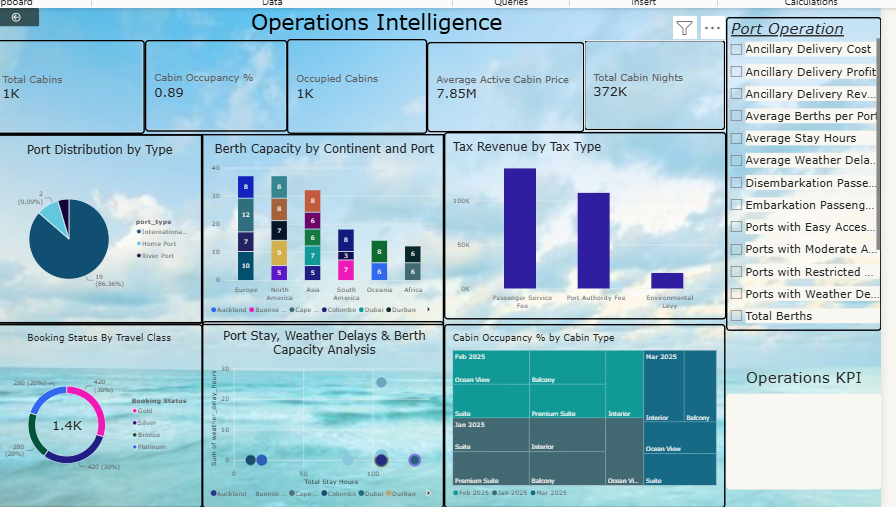

Layout of this report page (visuals, bound fields, positions):
{"tool":"powerbi","page":{"name":"Operations Intelligence","canvas":[1920,1080],"ordinal":1},"visuals":[{"type":"pieChart","title":"Port Distribution by Type","fields":{"Category":["public port_call.port_type"],"Y":["CountNonNull(public port_call.port_type)"]},"box":[0,272.5,452.5,410],"z":0},{"type":"columnChart","title":"Berth Capacity by Continent and Port","fields":{"Category":["public port_call.continent"],"Series":["public port_call.port_name"],"Y":["Sum(public port_call.berth_count)"]},"box":[452.5,272.5,522.5,412.5],"z":1},{"type":"scatterChart","title":"Port Stay, Weather Delays & Berth Capacity Analysis","fields":{"Series":["public port_call.port_name"],"Size":["Avg(public port_call.berth_count)"],"X":["public port_call.Total Stay Hours"],"Y":["Sum(public port_call.weather_delay_hours)"]},"box":[452.5,675,522.5,405],"z":3},{"type":"cardVisual","fields":{"Data":["Operations KPI.Operations KPI Display3"]},"box":[1582.5,775,336.7,265],"z":4},{"type":"slicer","fields":{"Values":["Operations KPI.KPI"]},"box":[1582.5,20,336,678],"z":5},{"type":"actionButton","box":[0,0,100,40],"z":7},{"type":"clusteredColumnChart","title":"Tax Revenue by Tax Type","fields":{"Category":["public port_tax_fee.tax_type"],"Y":["Sum(public port_tax_fee.tax_amount)"]},"box":[975,267.5,610,405],"z":8},{"type":"textbox","title":"Operations Intelligence","box":[74,0,1510,110],"z":10},{"type":"donutChart","title":"Booking Status By Travel Class","fields":{"Category":["public new_passenger.travel_class"],"Y":["Count(public new_passenger.cabin_id)"]},"box":[0,682.5,452.5,397.5],"z":11},{"type":"treemap","title":"Cabin Occupancy % by Cabin Type","fields":{"Details":["public new_passenger.cabin_type"],"Group":["public calendar.month_year"],"Values":["public new_passenger.Cabin Occupancy %"]},"box":[975,682.5,607.5,397.5],"z":12},{"type":"cardVisual","fields":{"Data":["public new_passenger.Total Cabins"]},"box":[0,70,327.5,202.5],"z":13},{"type":"cardVisual","fields":{"Data":["public new_passenger.Cabin Occupancy %"]},"box":[327.5,70,307.5,197.5],"z":14},{"type":"cardVisual","fields":{"Data":["public new_passenger.Occupied Cabins"]},"box":[635,67.5,302.5,205],"z":15},{"type":"cardVisual","fields":{"Data":["public new_passenger.Average Active Cabin Price"]},"box":[937.5,72.5,340,195],"z":16},{"type":"cardVisual","fields":{"Data":["public new_passenger.Total Cabin Nights"]},"box":[1277.5,70,305,195],"z":17}]}

Visuals, with their boxes in screenshot pixels (x1, y1, x2, y2):
"Port Distribution by Type" pieChart: (0,132,201,321)
"Berth Capacity by Continent and Port" columnChart: (201,132,442,322)
"Port Stay, Weather Delays & Berth Capacity Analysis" scatterChart: (201,318,442,504)
cardVisual - Operations KPI.Operations KPI Display3: (721,364,876,486)
slicer - Operations KPI.KPI: (721,16,876,328)
actionButton: (0,7,39,25)
"Tax Revenue by Tax Type" clusteredColumnChart: (442,130,722,316)
"Operations Intelligence" textbox: (27,7,722,58)
"Booking Status By Travel Class" donutChart: (0,321,201,504)
"Cabin Occupancy % by Cabin Type" treemap: (442,321,721,504)
cardVisual - public new_passenger.Total Cabins: (0,39,144,132)
cardVisual - public new_passenger.Cabin Occupancy %: (144,39,285,130)
cardVisual - public new_passenger.Occupied Cabins: (285,38,424,132)
cardVisual - public new_passenger.Average Active Cabin Price: (424,40,581,130)
cardVisual - public new_passenger.Total Cabin Nights: (581,39,721,129)
